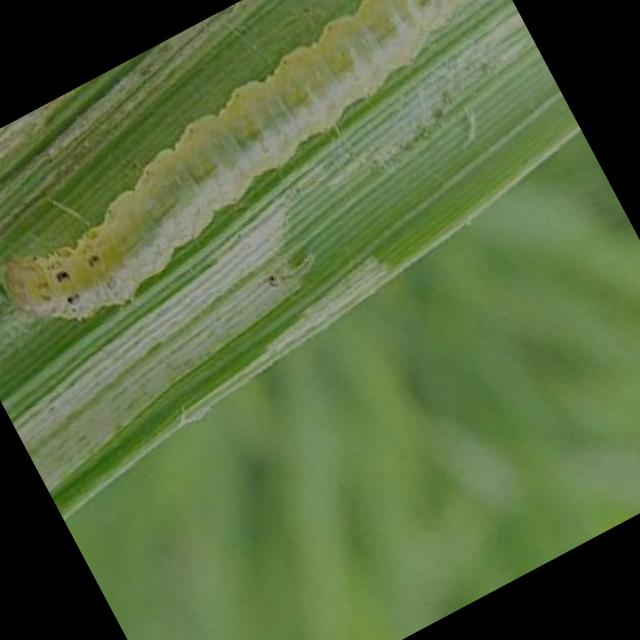leaf-folder: (0, 0, 570, 389)
